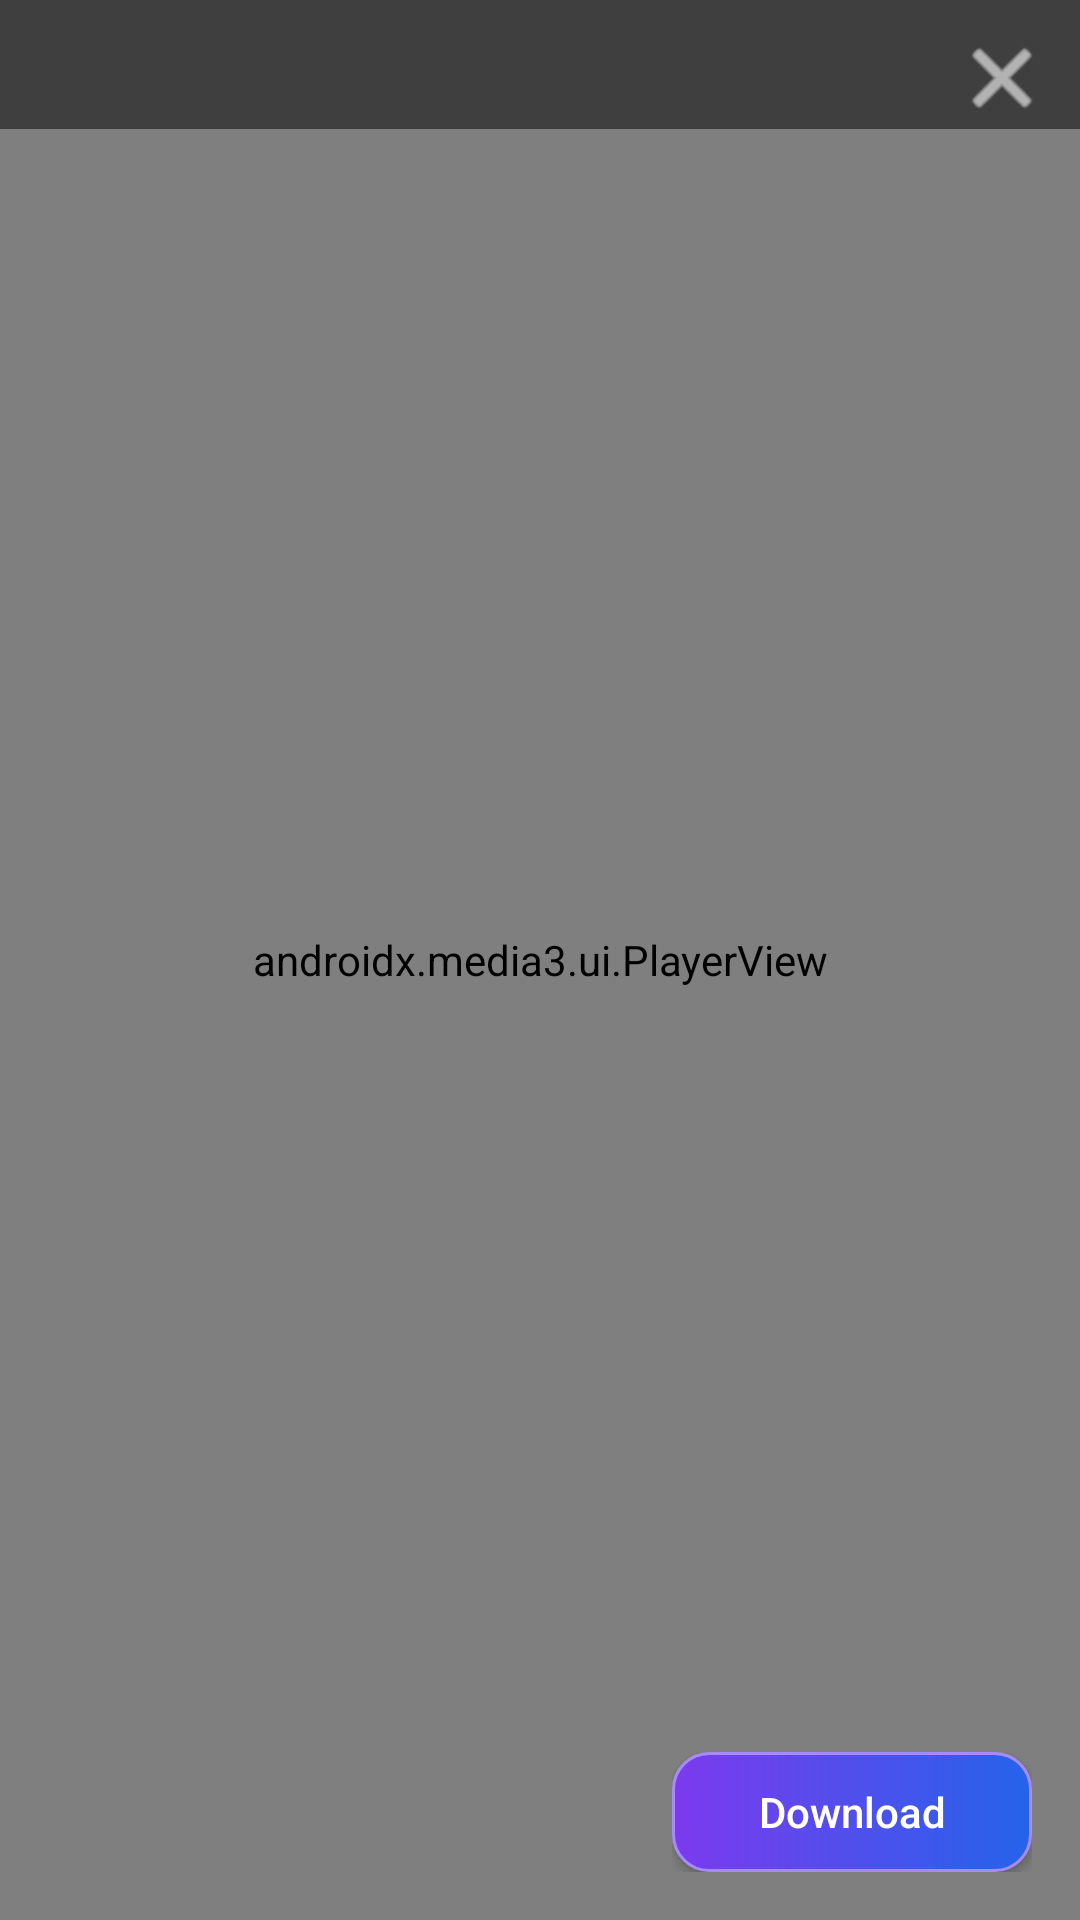

Icons on this 1080*1920 Android screen, each with its box as (x1, y1, x2, y2):
Close: (972, 48, 1032, 108)
